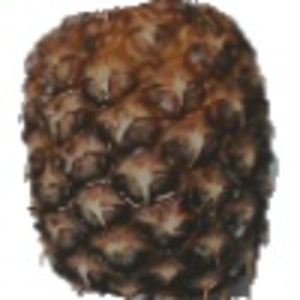abacaxi: (14, 2, 280, 295)
